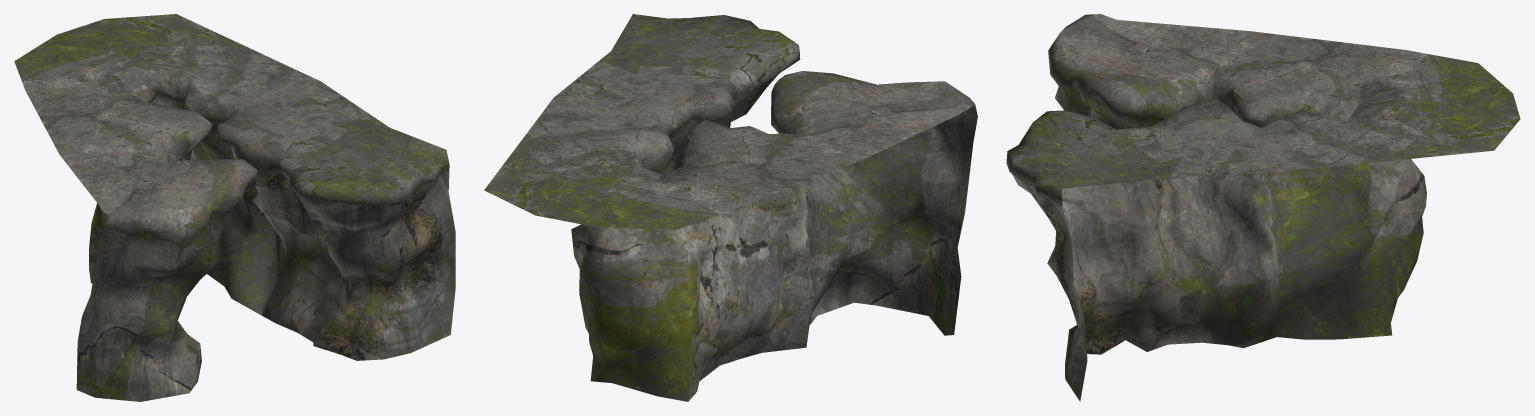
File: Rock6.fbx
3 views of the same model, side by side, from view 1: azimuth 30°, elevation 25°; view 2: azimuth 150°, elevation 25°; view 3: azimuth 270°, elevation 25° (orthographic). The views are drawn at different scales.
Parts seen in each view (by area): view 1: LV_Campagna_MoleCricketsDen_Cave01_SM_KSV; view 2: LV_Campagna_MoleCricketsDen_Cave01_SM_KSV; view 3: LV_Campagna_MoleCricketsDen_Cave01_SM_KSV.
Boxes of the visible parts, left/top/right/bottom form: LV_Campagna_MoleCricketsDen_Cave01_SM_KSV: left=14, top=14, right=455, bottom=401; LV_Campagna_MoleCricketsDen_Cave01_SM_KSV: left=484, top=14, right=977, bottom=401; LV_Campagna_MoleCricketsDen_Cave01_SM_KSV: left=1006, top=14, right=1520, bottom=401.
Bounding box in the file's own units: 8.33 × 4.74 × 9.79.
Materials: 1 (1 with a texture image).
